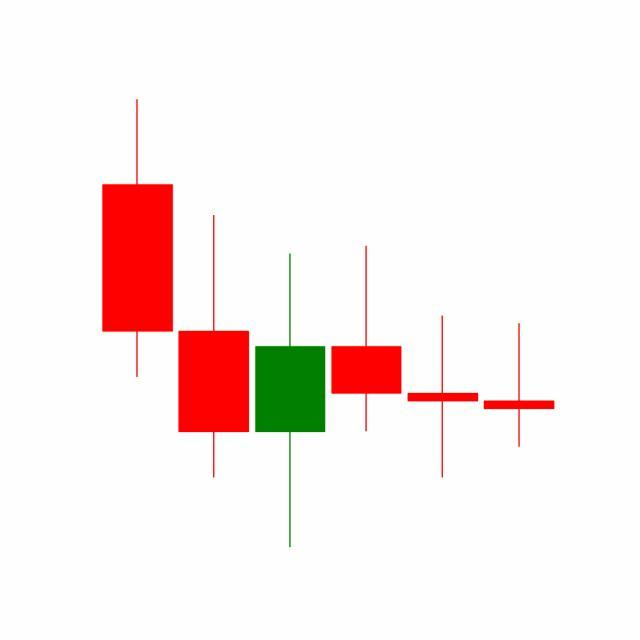Spinning Top: (404, 314, 482, 481)
